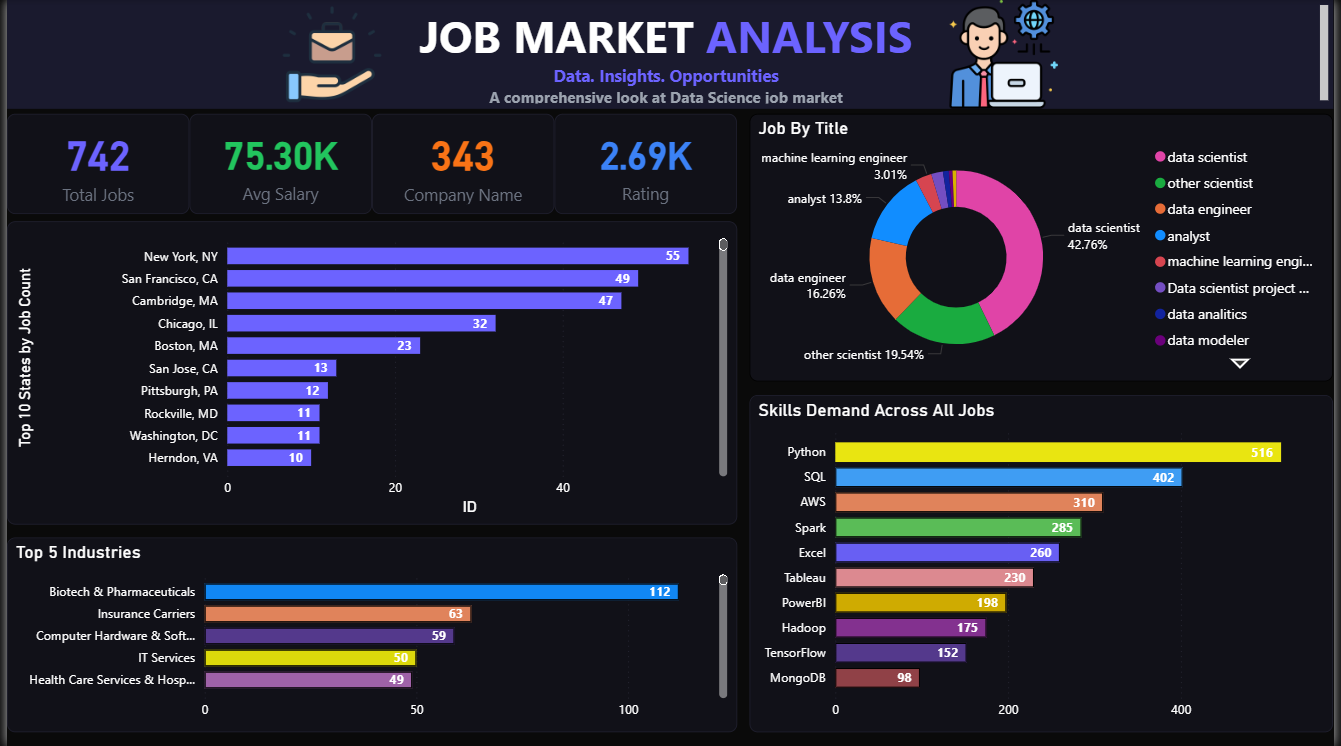

The page's visual inventory and layout, read from the dashboard file:
{"tool":"powerbi","page":{"name":"Page 1","canvas":[1280,720],"ordinal":0},"visuals":[{"type":"shape","box":[0,0,1280,105],"z":0},{"type":"textbox","box":[0,0,1280,105],"z":1000},{"type":"card","fields":{"Values":["CountNonNull(Sheet1.ID)"]},"box":[0,109.2,176.1,96.5],"z":2000},{"type":"card","fields":{"Values":["Sum(Sheet1.Avg_SalaryK)"]},"box":[176.1,109.2,176.1,96.5],"z":3000},{"type":"card","fields":{"Values":["Count(Sheet1.Company_Name)"]},"box":[352.3,109.2,176.1,96.5],"z":4000},{"type":"card","fields":{"Values":["Sum(Sheet1.Rating)"]},"box":[528.4,109.2,176.1,96.5],"z":5000},{"type":"barChart","fields":{"Category":["Sheet1.Location"],"Y":["CountNonNull(Sheet1.ID)"]},"box":[0,213.5,704.6,293.2],"z":6000},{"type":"donutChart","title":"Job By Title","fields":{"Y":["CountNonNull(Sheet1.ID)"],"Category":["Sheet1.job_title_sim"]},"box":[716.6,109.8,563.4,258.2],"z":7000},{"type":"barChart","title":"Skills Demand Across All Jobs","fields":{"Category":["Table.Skill"],"Y":["Sum(Table.Count)"]},"box":[716.6,381.2,563.4,325.7],"z":8000},{"type":"clusteredBarChart","title":"Top 5 Industries","fields":{"Category":["Sheet1.Industry"],"Y":["CountNonNull(Sheet1.Degree)"]},"box":[0,518.8,704.6,188.2],"z":9000},{"type":"image","box":[247.3,0,132.7,105],"z":10000},{"type":"image","box":[895.2,0,133.9,105],"z":11000}]}

Visuals, with their boxes in screenshot pixels (x1, y1, x2, y2), scaled from the page's 1280x720 canvas onto the 1341x746 screenshot:
shape: rect(0, 0, 1340, 109)
textbox: rect(0, 0, 1340, 109)
card - CountNonNull(Sheet1.ID): rect(0, 113, 184, 213)
card - Sum(Sheet1.Avg_SalaryK): rect(184, 113, 369, 213)
card - Count(Sheet1.Company_Name): rect(369, 113, 554, 213)
card - Sum(Sheet1.Rating): rect(554, 113, 738, 213)
barChart - Sheet1.Location x CountNonNull(Sheet1.ID): rect(0, 221, 738, 525)
"Job By Title" donutChart: rect(751, 114, 1340, 381)
"Skills Demand Across All Jobs" barChart: rect(751, 395, 1340, 732)
"Top 5 Industries" clusteredBarChart: rect(0, 538, 738, 733)
image: rect(259, 0, 398, 109)
image: rect(938, 0, 1078, 109)
